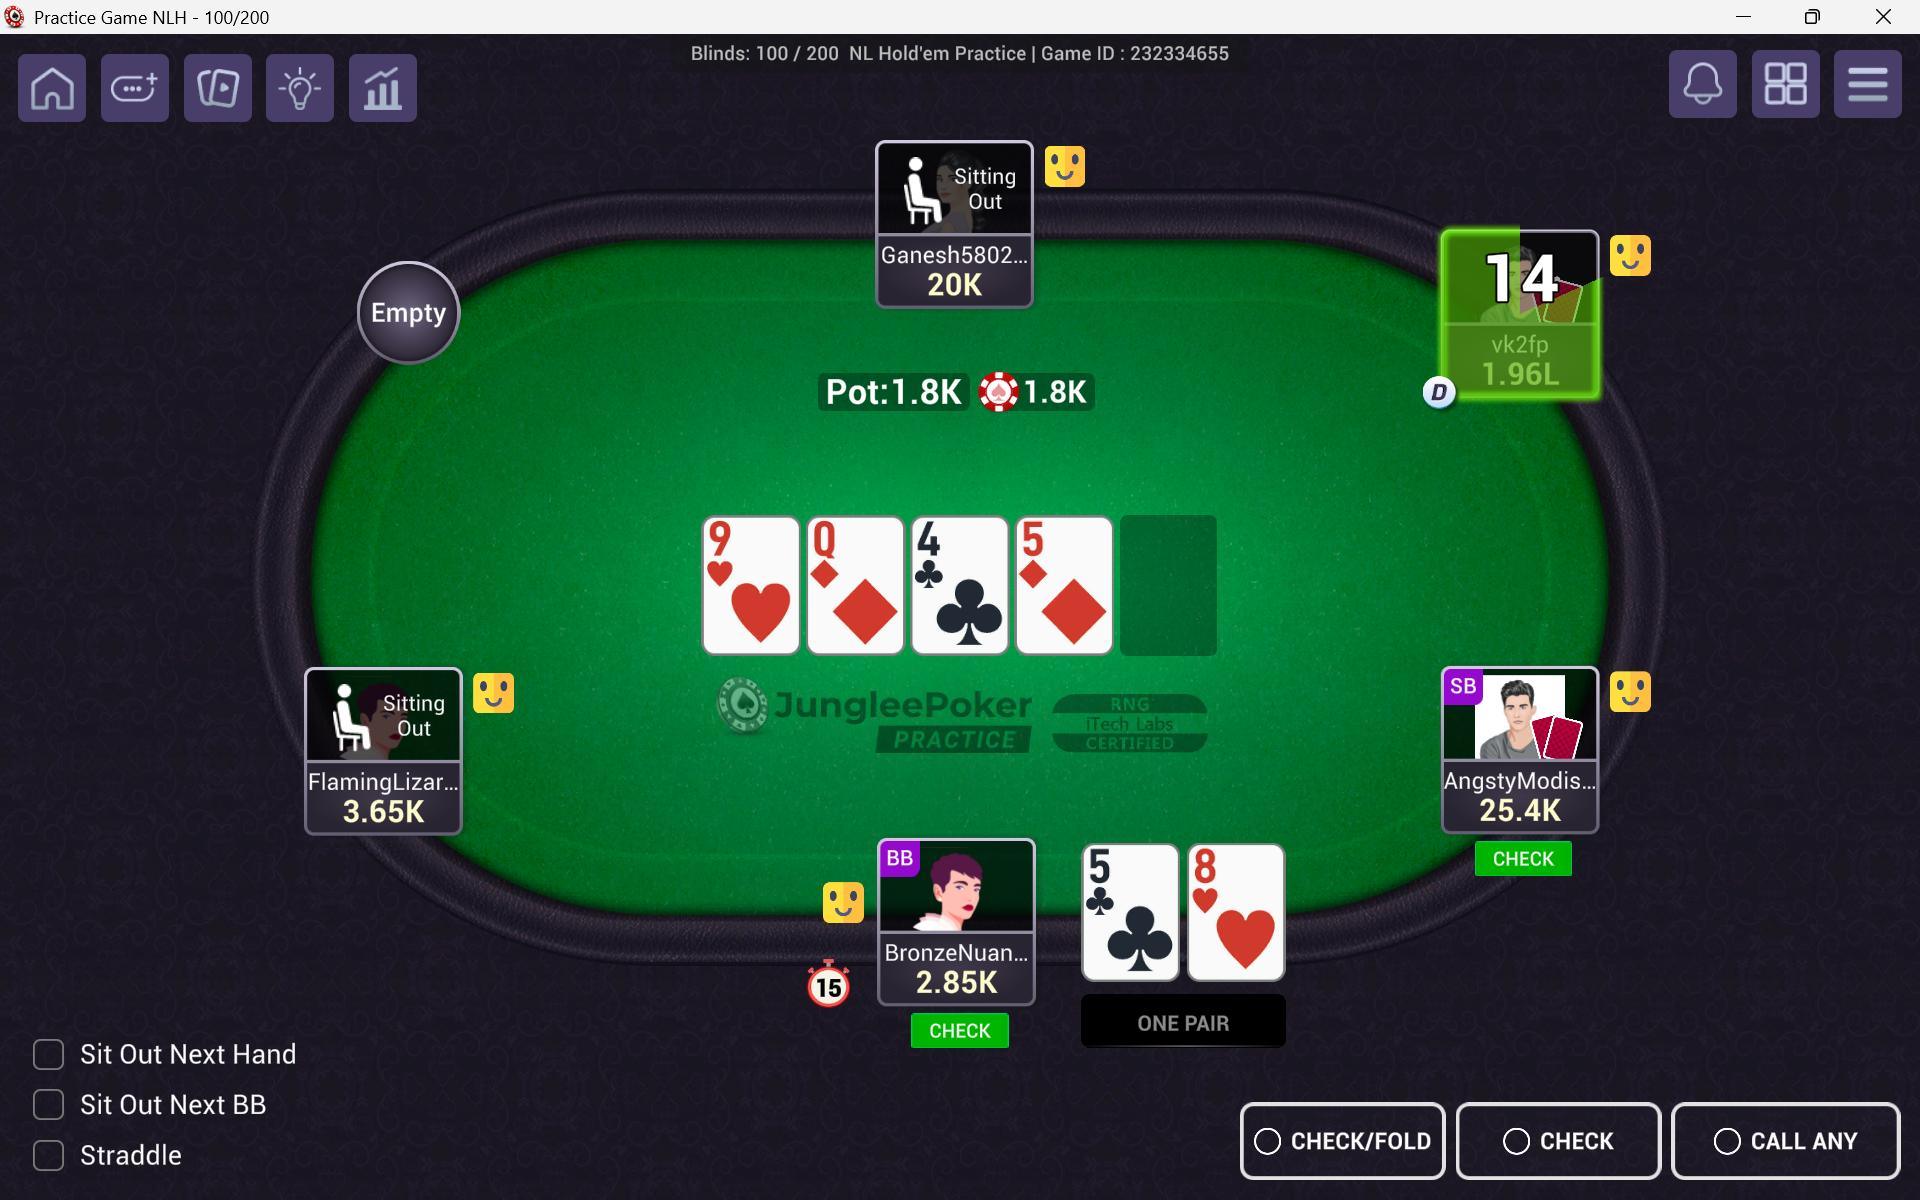card1_rank: (1085, 847, 1138, 890)
card1_suite_club: (1088, 893, 1172, 980)
card2_rank: (1187, 847, 1234, 897)
card2_suite_heart: (1208, 885, 1286, 975)
flop1_rank: (708, 517, 775, 563)
flop1_suite_heart: (727, 572, 798, 650)
flop2_rank: (810, 520, 868, 565)
flop2_suite_diamond: (832, 572, 903, 653)
flop3_rank: (915, 517, 962, 570)
flop3_suite_club: (930, 575, 1005, 655)
position_BB: (878, 838, 925, 878)
position_SB: (1444, 672, 1487, 705)
turn_rank: (1012, 520, 1063, 563)
turn_suite_diamond: (1030, 565, 1107, 653)
villian1_name: (300, 763, 460, 789)
villian1_stack: (325, 789, 433, 835)
villian3_name: (881, 242, 1030, 267)
villian3_stack: (900, 267, 1002, 307)
villian4_name: (1450, 325, 1601, 355)
villian4_stack: (1468, 358, 1577, 398)
villian5_name: (1440, 765, 1595, 792)
villian5_stack: (1462, 795, 1573, 832)
